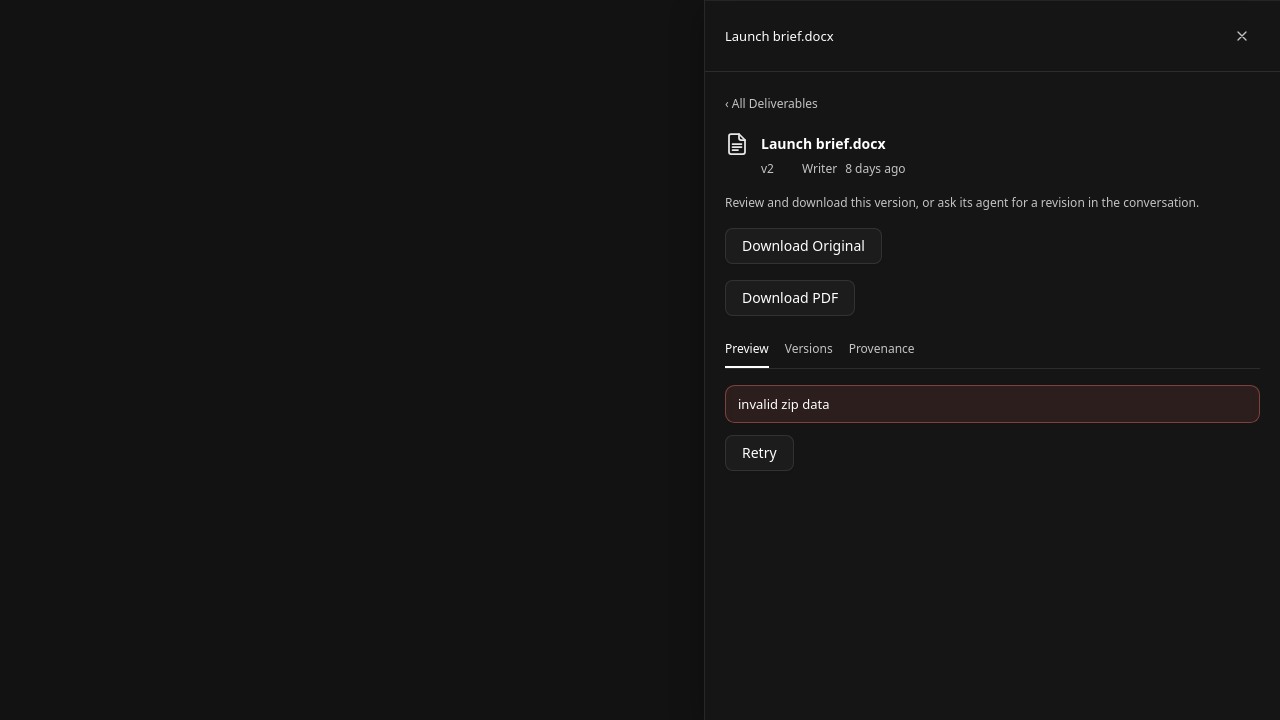
Test case: PDF export uses the selected immutable version and a refusal keeps the original available
This screenshot has width=1280, height=720.
Click the button "Download PDF".
click(790, 298)  # box [725,280,855,316]
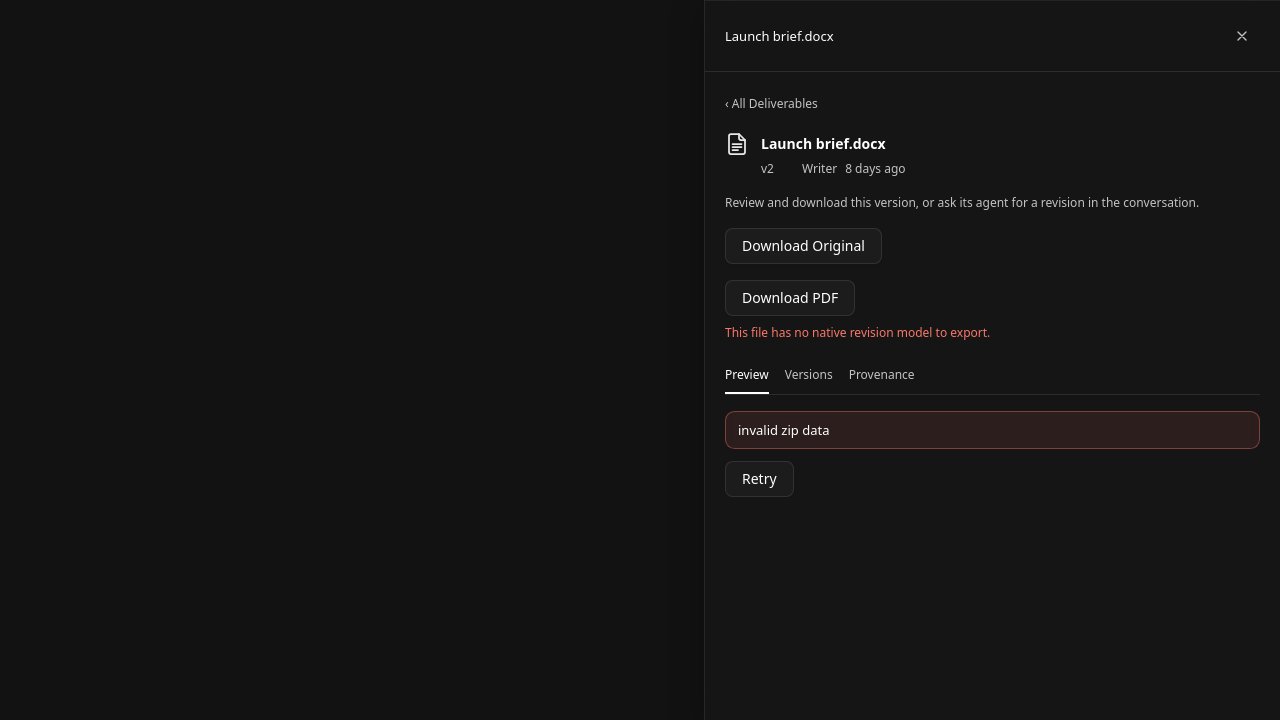
Expected: the text "This file has no native revision model to export." is shown, [725,324,990,341]
